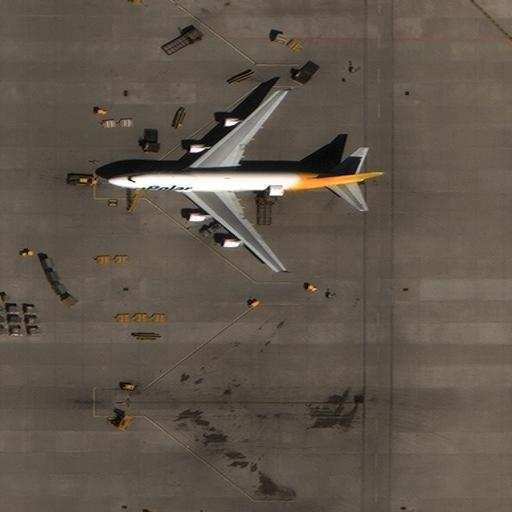Large Civil Transport: (106, 89, 384, 273)
